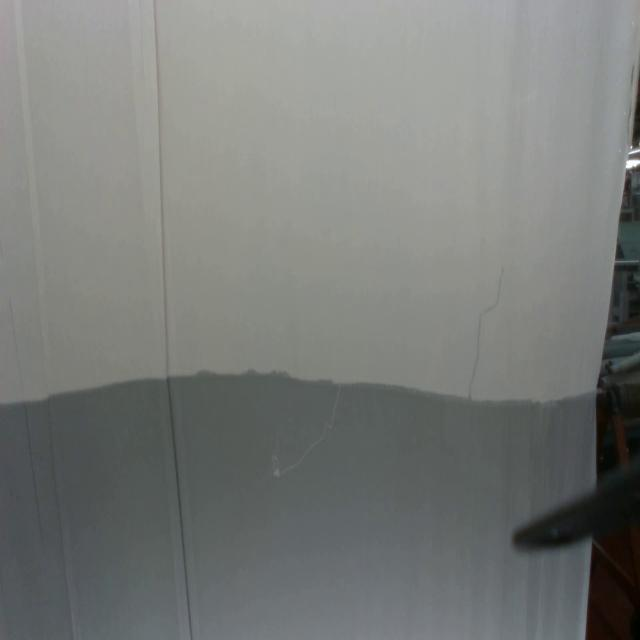crease: (13, 0, 84, 639), (134, 0, 196, 639), (8, 295, 42, 552)
